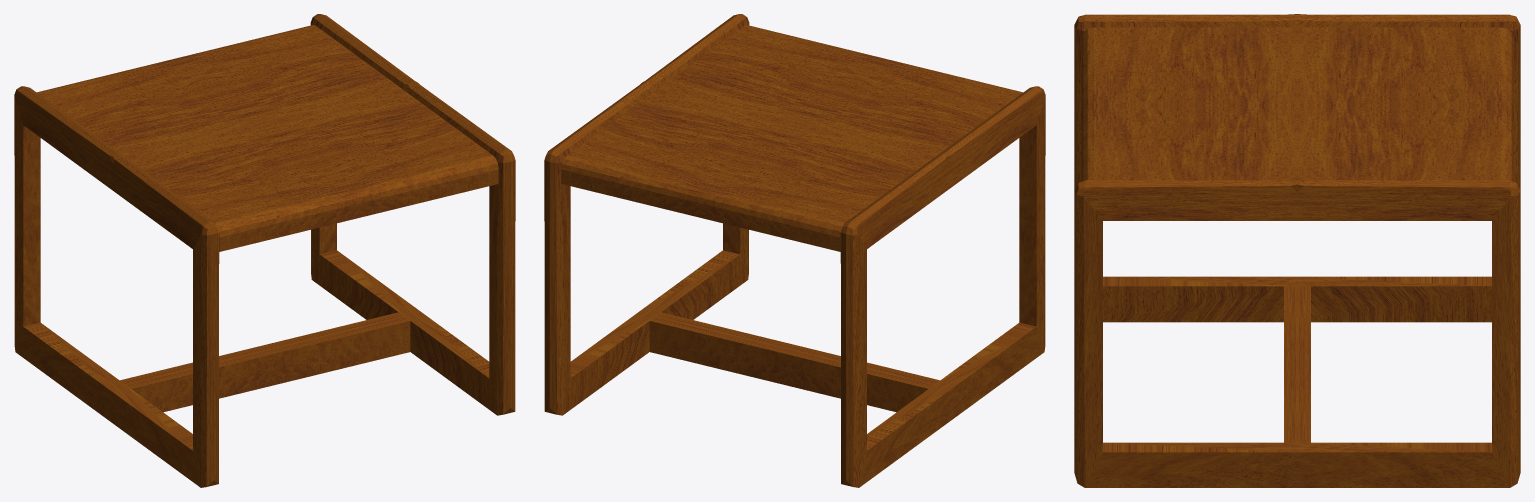
Rendered from smalltable2.gltf.
3 renders of one model, left to right at view 1: azimuth 30°, elevation 25°; view 2: azimuth 150°, elevation 25°; view 3: azimuth 270°, elevation 25°, orthographic. The views are drawn at different scales.
Visible parts, largest first — view 1: Cube; view 2: Cube; view 3: Cube.
Part boxes in pixels (bbox=[...]): Cube: bbox=[14, 14, 515, 487]; Cube: bbox=[544, 14, 1045, 487]; Cube: bbox=[1074, 14, 1520, 487].
Size of the model in its own units: 1.35 by 1.09 by 1.45.
Materials: 1 (1 with a texture image).
